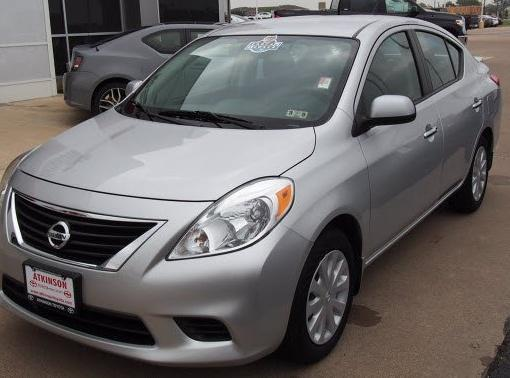Cars: (1, 17, 503, 366)
